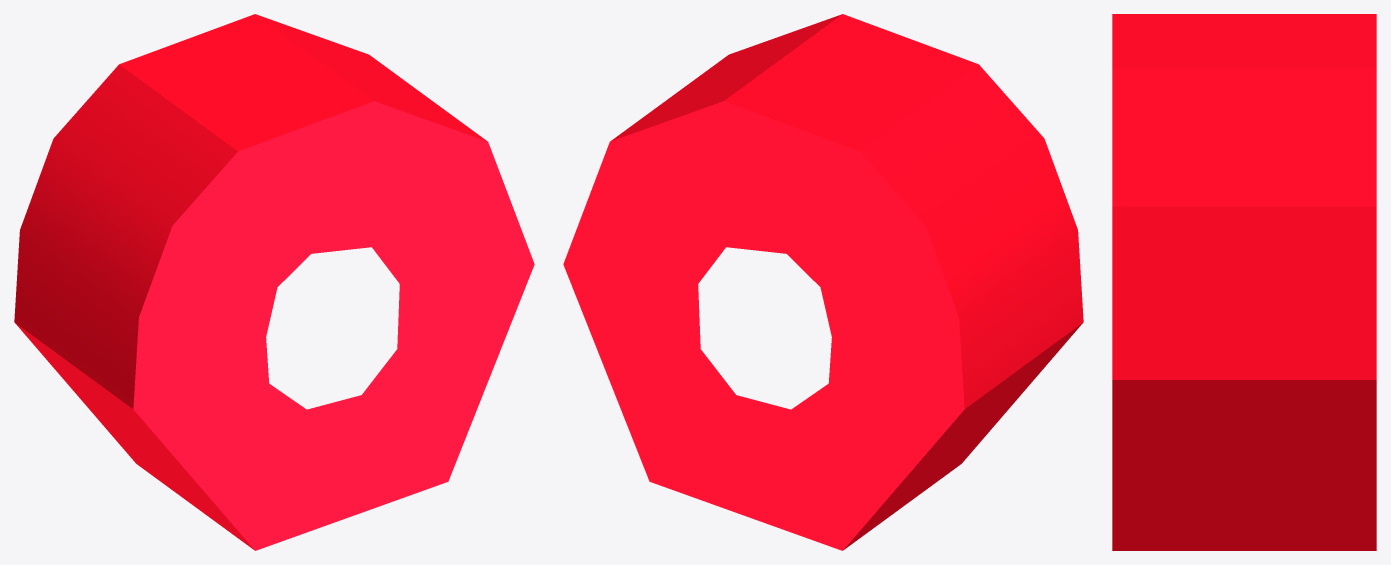
The model's file is O_Zyzol_Red.glb.
The picture shows the model from 3 angles, left to right: view 1: azimuth 30°, elevation 25°; view 2: azimuth 150°, elevation 25°; view 3: azimuth 270°, elevation 25°; orthographic projection. The views are drawn at different scales.
Visible parts, largest first — view 1: o_Zyzol_Red; view 2: o_Zyzol_Red; view 3: o_Zyzol_Red.
Boxes of the visible parts, <box> form: o_Zyzol_Red: <box>14,14,534,550</box>; o_Zyzol_Red: <box>563,14,1083,550</box>; o_Zyzol_Red: <box>1112,14,1376,550</box>.
Size of what is drawn, in the model's own units: 0.0876 by 0.0877 by 0.045.
Materials: 2 (2 with a texture image).
